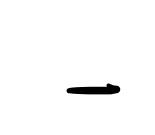minus: (67, 84, 120, 95)
